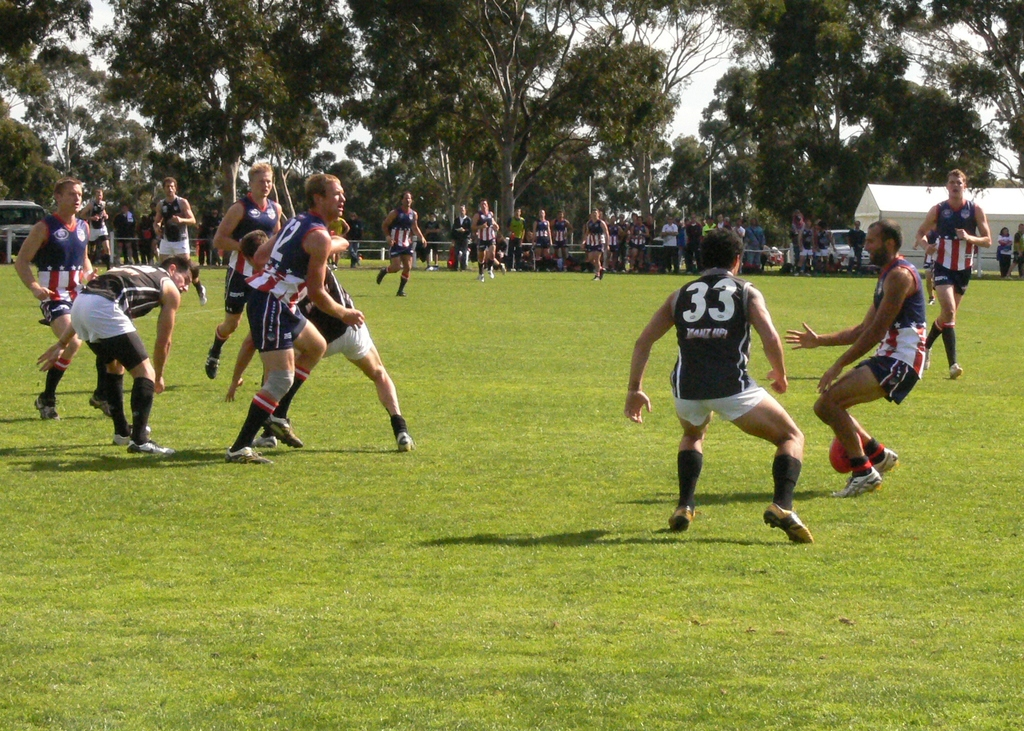Ball: (829, 424, 867, 475)
